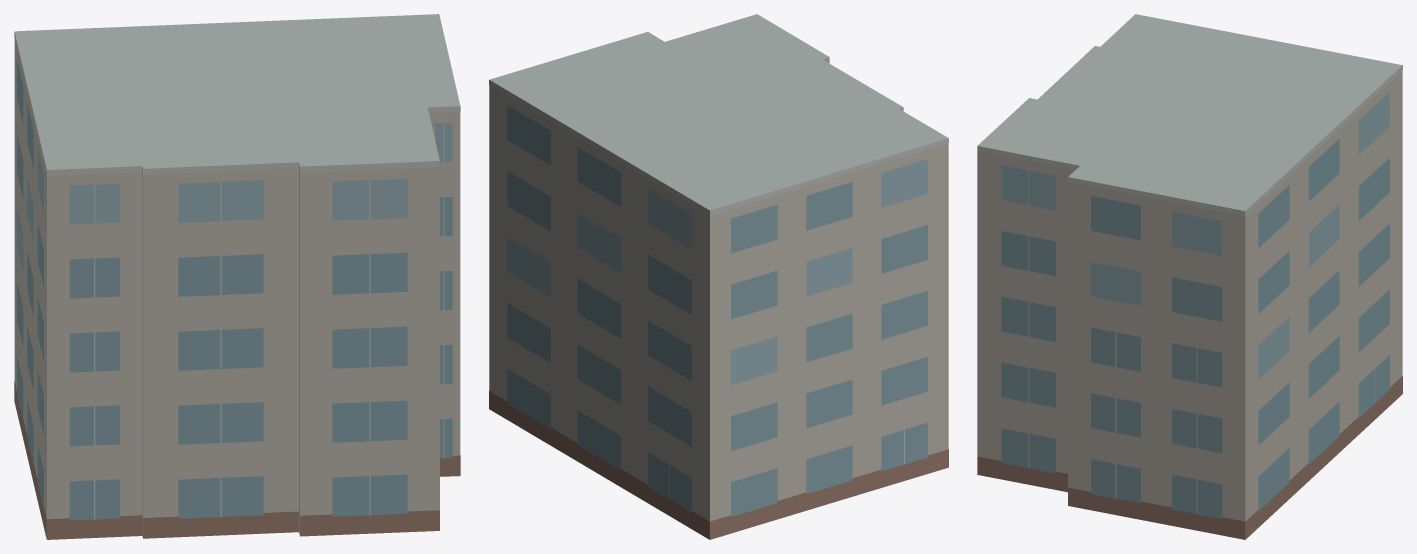
File: survey-upis-32555300.glb
3 views of the same model, side by side, from view 1: azimuth 30°, elevation 25°; view 2: azimuth 150°, elevation 25°; view 3: azimuth 270°, elevation 25° (orthographic). The views are drawn at different scales.
Parts seen in each view (by area): view 1: survey-upis-32555300.tmp; view 2: survey-upis-32555300.tmp; view 3: survey-upis-32555300.tmp.
Part boxes in pixels (bbox=[...]): survey-upis-32555300.tmp: bbox=[14, 14, 460, 539]; survey-upis-32555300.tmp: bbox=[489, 14, 948, 539]; survey-upis-32555300.tmp: bbox=[977, 14, 1402, 539].
Size of the model in its own units: 19.61 by 15.25 by 17.9.
